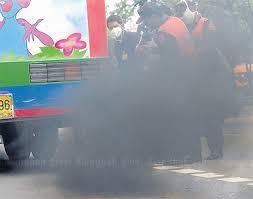smoke: (43, 28, 248, 198)
